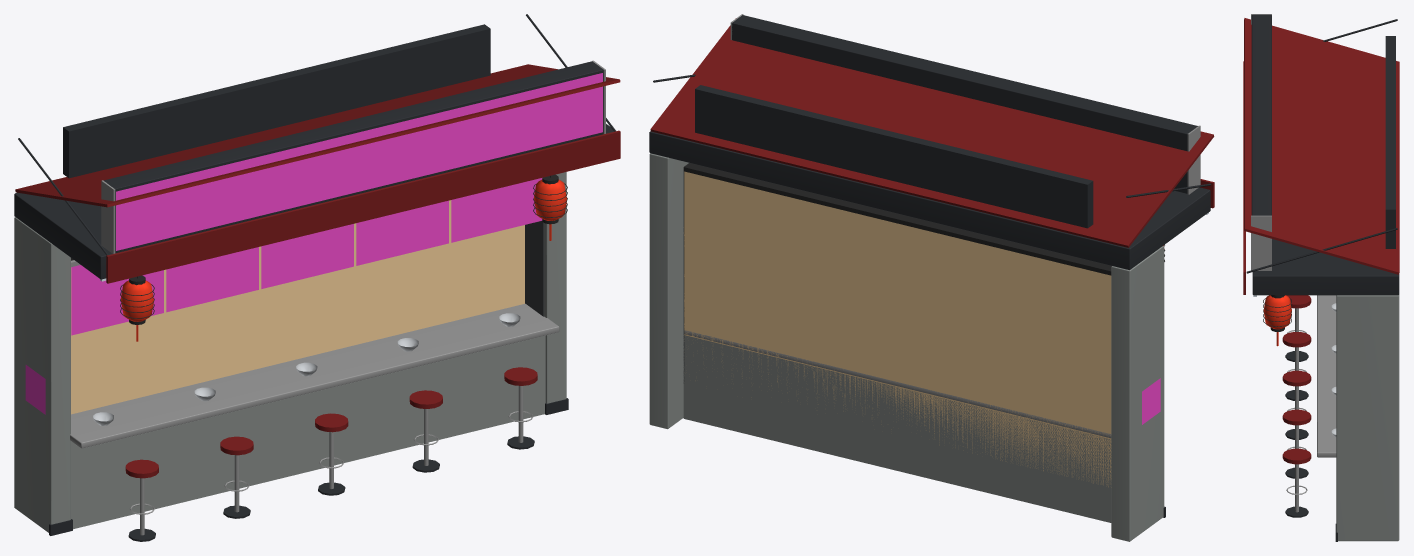
File: St_Shop_Noodle_A.fbx
3 renders of one model, left to right at view 1: azimuth 30°, elevation 25°; view 2: azimuth 150°, elevation 25°; view 3: azimuth 270°, elevation 25°, orthographic. The views are drawn at different scales.
Visible parts, largest first — view 1: St_Shop_Noodle_A_LOD0; view 2: St_Shop_Noodle_A_LOD0; view 3: St_Shop_Noodle_A_LOD0.
Part boxes in pixels (bbox=[...]): St_Shop_Noodle_A_LOD0: bbox=[14, 14, 620, 541]; St_Shop_Noodle_A_LOD0: bbox=[649, 14, 1214, 541]; St_Shop_Noodle_A_LOD0: bbox=[1243, 14, 1399, 541].
Size of what is drawn, in the model's own units: 6.02 by 4.22 by 1.86.
